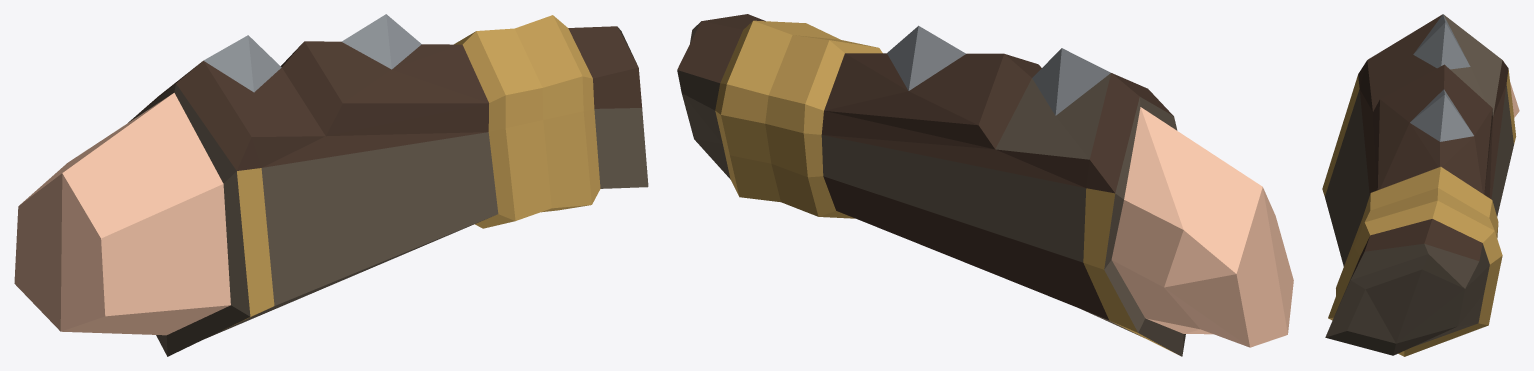
The model's file is Chr_ArmLowerLeft_Female_01_Static.fbx.
The picture shows the model from 3 angles, left to right: view 1: azimuth 30°, elevation 25°; view 2: azimuth 150°, elevation 25°; view 3: azimuth 270°, elevation 25°; orthographic projection. The views are drawn at different scales.
Parts seen in each view (by area): view 1: Chr_ArmLowerLeft_Female_01_Static; view 2: Chr_ArmLowerLeft_Female_01_Static; view 3: Chr_ArmLowerLeft_Female_01_Static.
Boxes of the visible parts, x1=… form: Chr_ArmLowerLeft_Female_01_Static: x1=14, y1=14, x2=648, y2=356; Chr_ArmLowerLeft_Female_01_Static: x1=677, y1=14, x2=1293, y2=356; Chr_ArmLowerLeft_Female_01_Static: x1=1322, y1=14, x2=1519, y2=356.
Bounding box in the file's own units: 0.2912 × 0.1389 × 0.0962.
